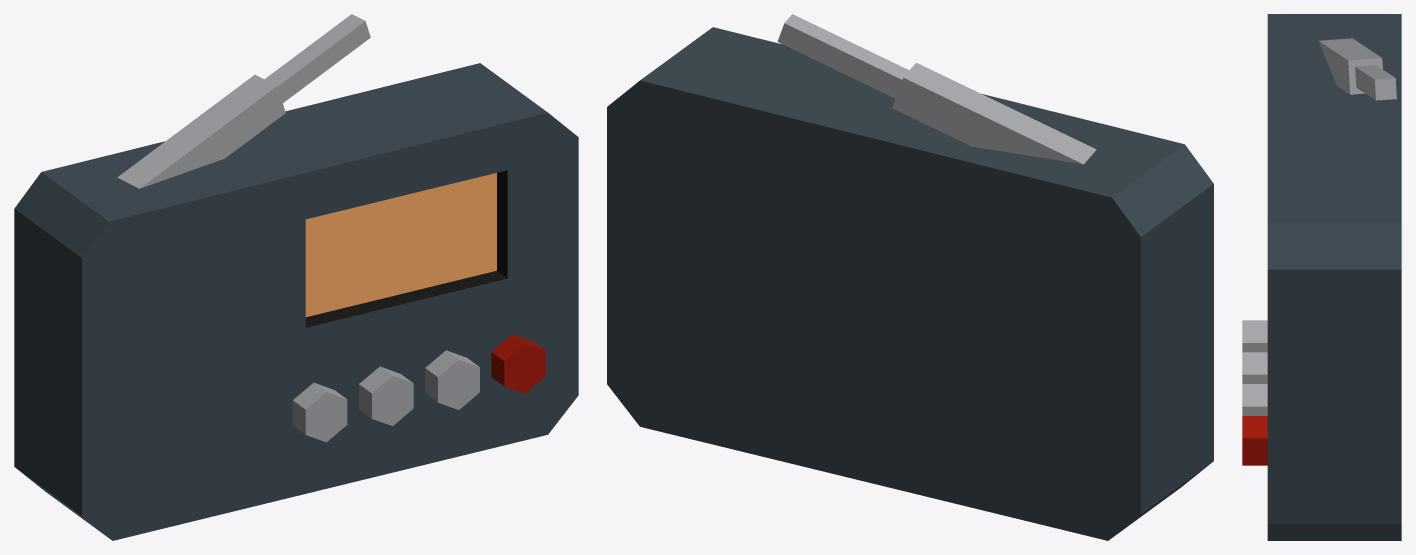
The model's file is Radio.fbx.
3 views of the same model, side by side, from view 1: azimuth 30°, elevation 25°; view 2: azimuth 150°, elevation 25°; view 3: azimuth 270°, elevation 25° (orthographic). The views are drawn at different scales.
Visible parts, largest first — view 1: Radio; view 2: Radio; view 3: Radio.
Part boxes in pixels (x1,y1,x2,y2): Radio: (14,14,578,540); Radio: (607,14,1213,540); Radio: (1242,14,1401,540).
Size of the model in its own units: 31.75 by 24.77 by 8.94.
